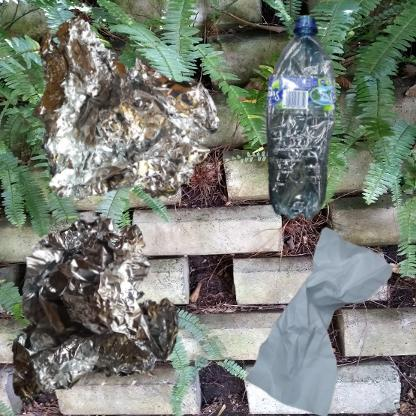aluminio: (10, 10, 239, 230), (10, 213, 182, 409)
botella: (213, 10, 416, 290)
papel: (213, 213, 416, 416)
